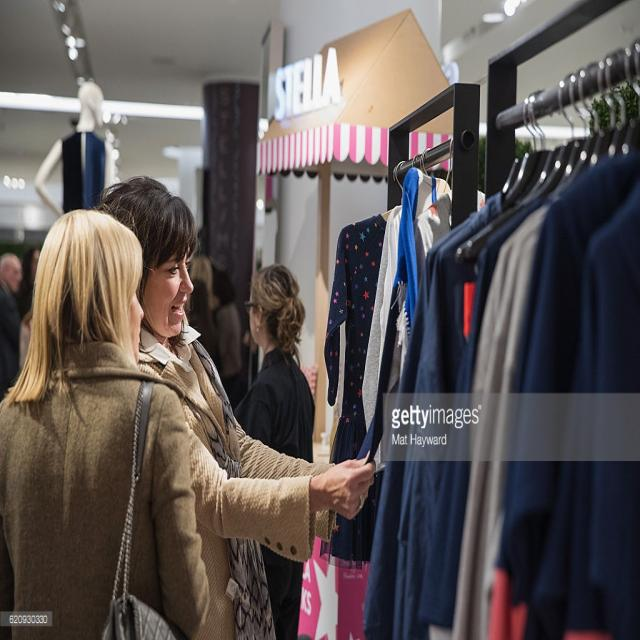body: (94, 171, 378, 640), (0, 200, 212, 639), (232, 264, 316, 640), (28, 76, 124, 227), (183, 248, 252, 410), (0, 235, 51, 407)
